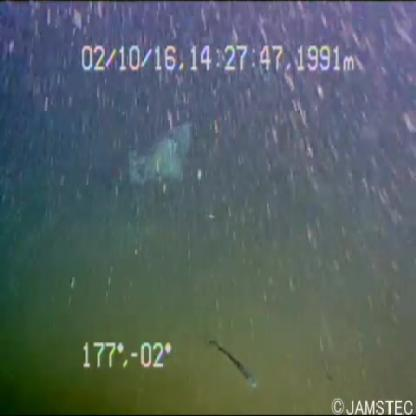Rác: (124, 111, 208, 204)
